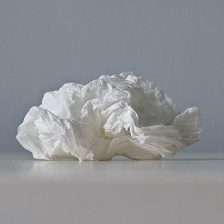tissue: (10, 65, 208, 168)
